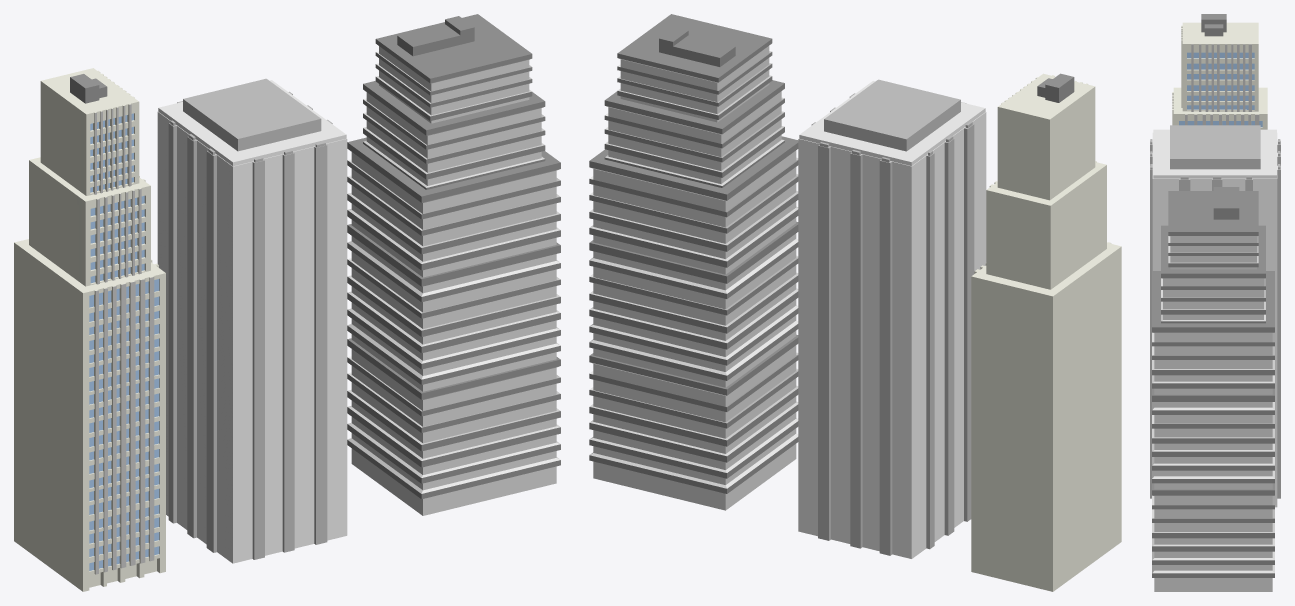
Rendered from build2.fbx.
3 renders of one model, left to right at view 1: azimuth 30°, elevation 25°; view 2: azimuth 150°, elevation 25°; view 3: azimuth 270°, elevation 25°, orthographic. The views are drawn at different scales.
Visible parts, largest first — view 1: Cube.001, Cube, Cube.002, Cube.004, Cube.003, Cube.006, Cube.005; view 2: Cube.001, Cube, Cube.002, Cube.003, Cube.004, Cube.006, Cube.005; view 3: Cube.001, Cube.002, Cube.004, Cube.003, Cube, Cube.006, Cube.005.
Part boxes in pixels (x1,y1,x2,y2): Cube.001: (157,78,347,563); Cube: (14,68,165,591); Cube.002: (347,338,560,515); Cube.004: (347,137,560,318); Cube.003: (347,224,560,401); Cube.006: (375,14,532,123); Cube.005: (363,81,545,189); Cube.001: (798,79,986,558); Cube: (971,73,1121,591); Cube.002: (589,334,798,510); Cube.003: (589,221,798,397); Cube.004: (589,136,798,308); Cube.006: (617,14,772,122); Cube.005: (604,80,784,187); Cube.001: (1150,125,1280,507); Cube.002: (1152,483,1274,591); Cube.004: (1152,271,1274,428); Cube.003: (1152,388,1274,497); Cube: (1172,14,1267,129); Cube.006: (1168,187,1258,269); Cube.005: (1161,225,1265,323).
Bounding box in the file's own units: 436 × 427 × 127.
